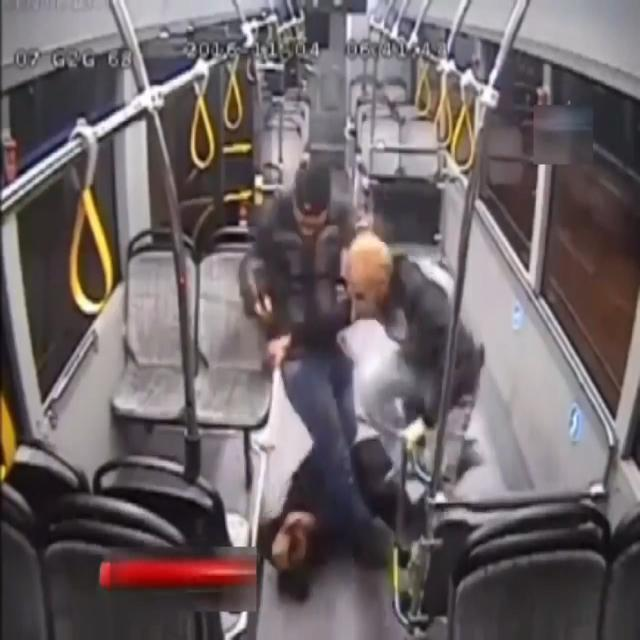fight: (237, 151, 487, 492)
